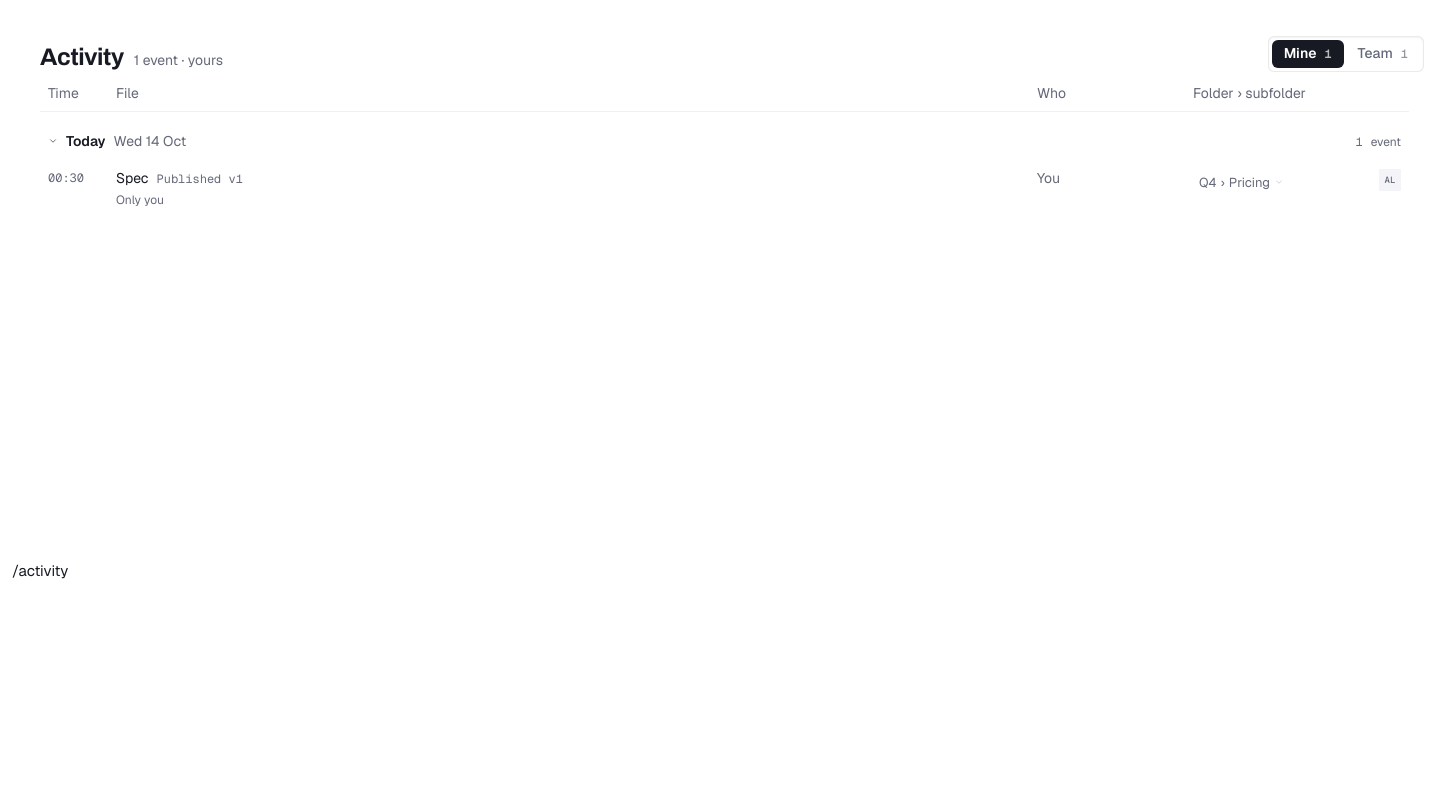
Test: ActivityScreen › moves a file out of every project, and says so plainly when the move fails
Click the button with aria-label "Move Spec": [1242, 182] box [1193, 169, 1290, 195]
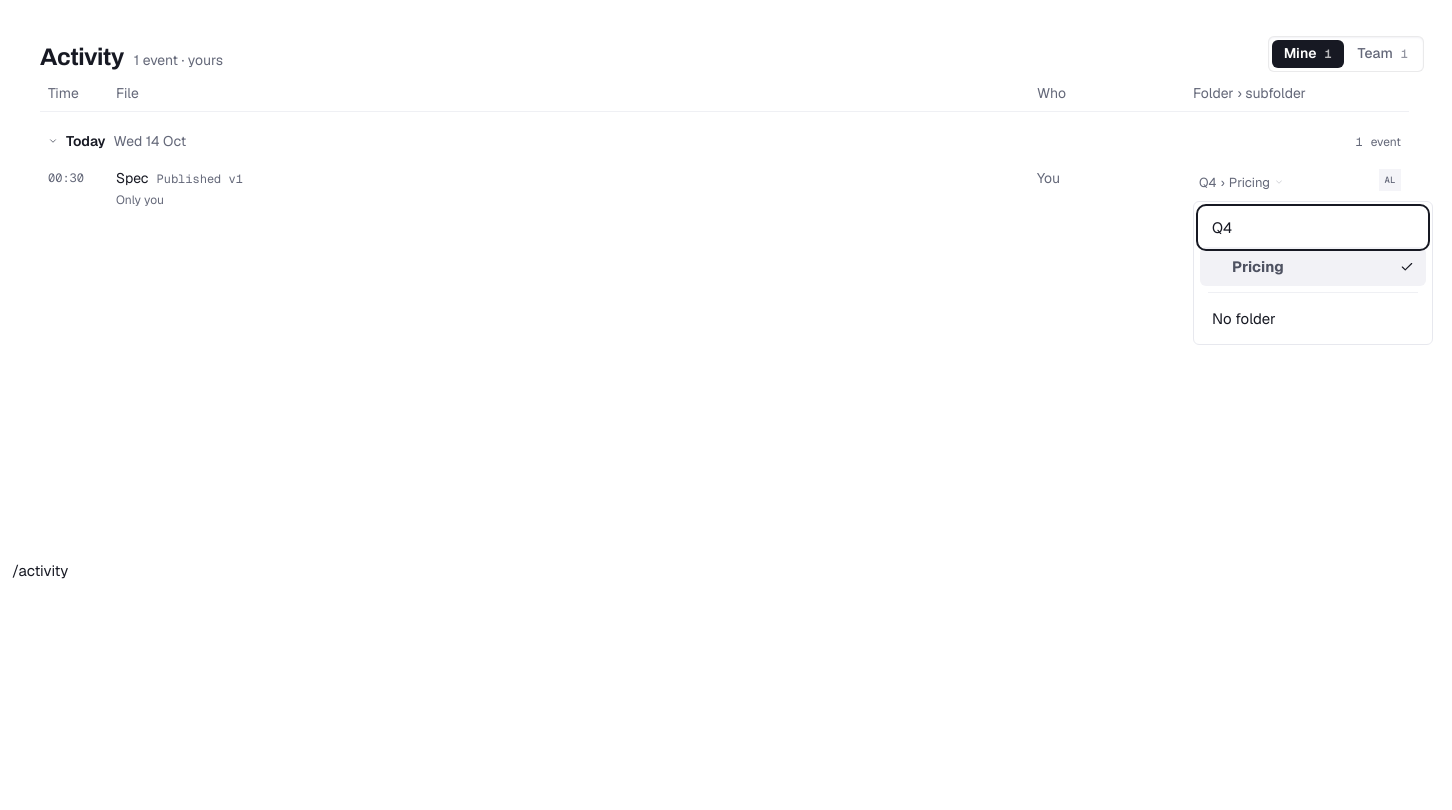
Click the menu item "No folder": [1313, 319] box [1200, 299, 1426, 338]
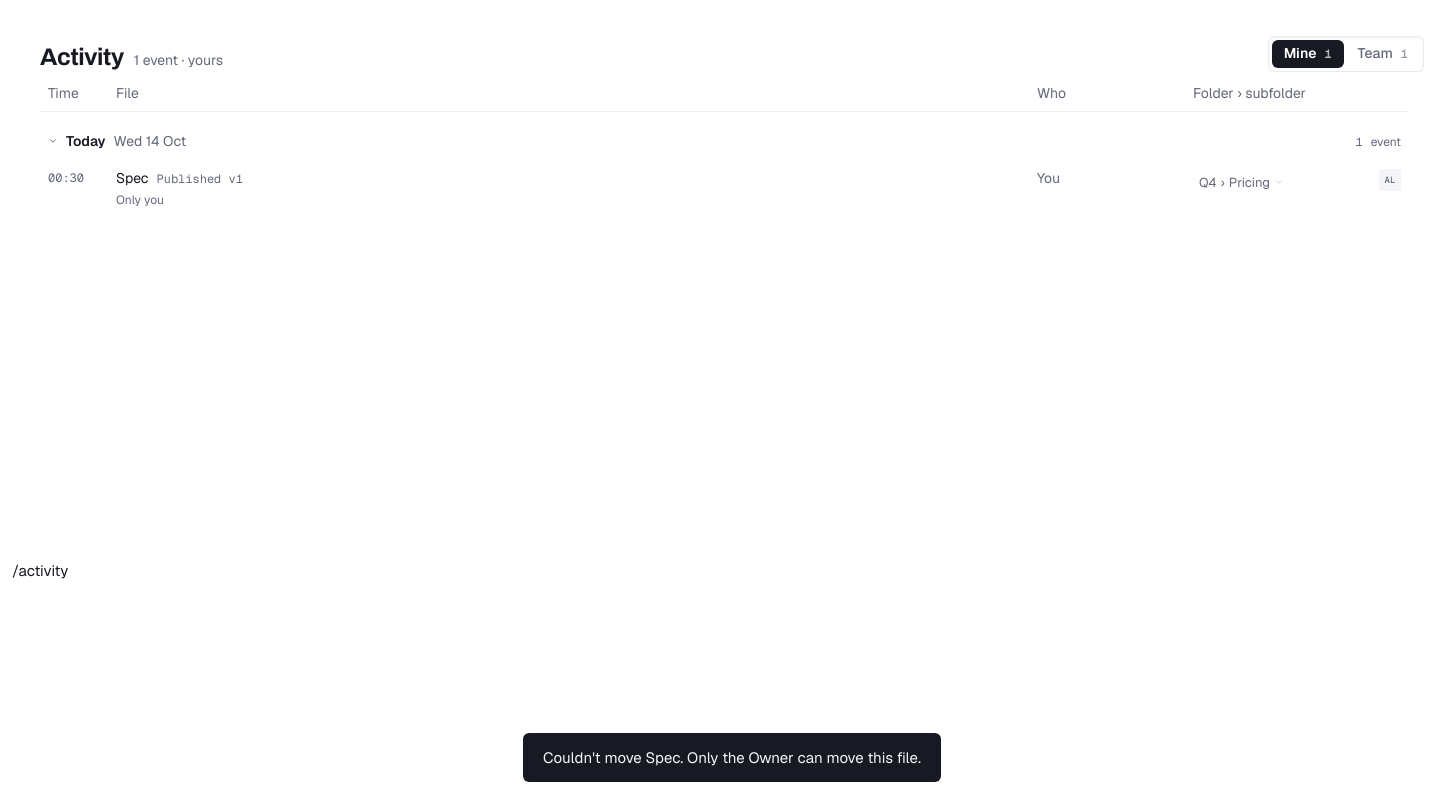
Result: the message reads "Couldn't move Spec. Only the Owner can move this file." at [543, 748, 921, 767]
